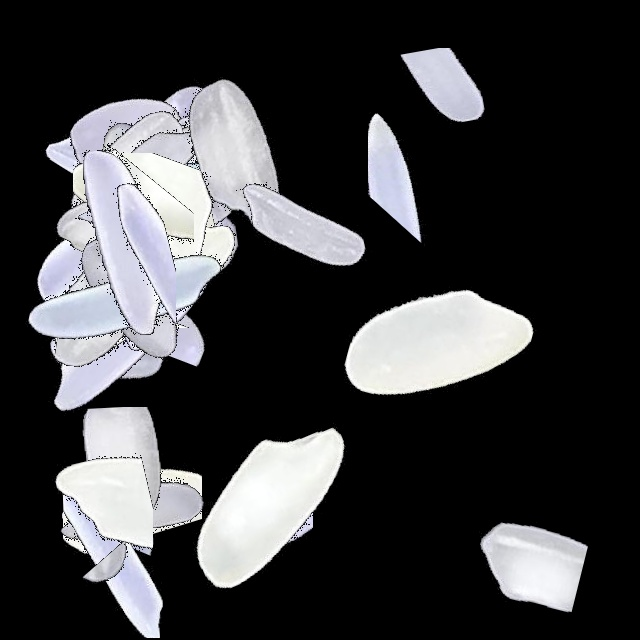Broken: (3, 223, 253, 397), (0, 407, 250, 579), (48, 113, 298, 283), (20, 47, 190, 297), (23, 470, 273, 638), (152, 387, 313, 637), (16, 238, 266, 399), (378, 477, 628, 636), (13, 153, 263, 307), (63, 342, 202, 592), (319, 48, 569, 183), (43, 155, 176, 405), (368, 40, 500, 290), (12, 92, 142, 342), (26, 390, 153, 640), (62, 352, 184, 602), (73, 117, 194, 367), (21, 136, 271, 256), (0, 88, 250, 208), (112, 169, 227, 419), (81, 76, 185, 326), (2, 196, 252, 298), (85, 204, 180, 454), (115, 47, 206, 297), (15, 540, 265, 621), (12, 250, 262, 328)
Full: (53, 50, 303, 300), (0, 157, 250, 407), (0, 150, 250, 400), (54, 7, 304, 257), (0, 9, 250, 259), (73, 45, 323, 295), (0, 213, 250, 463), (0, 66, 250, 316), (7, 135, 257, 385), (52, 40, 302, 290), (18, 164, 268, 414), (0, 113, 250, 363), (0, 117, 250, 367), (0, 44, 250, 294), (0, 90, 250, 340), (9, 390, 259, 640), (21, 52, 271, 302), (115, 25, 365, 275), (315, 223, 565, 473), (7, 169, 257, 419), (181, 97, 431, 347), (0, 169, 250, 419), (0, 116, 250, 366), (147, 377, 397, 627)
